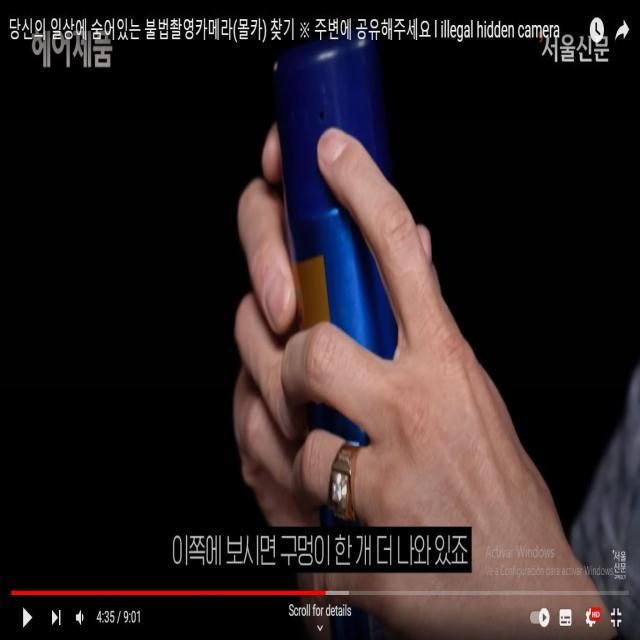hidden camera: (312, 100, 331, 132)
